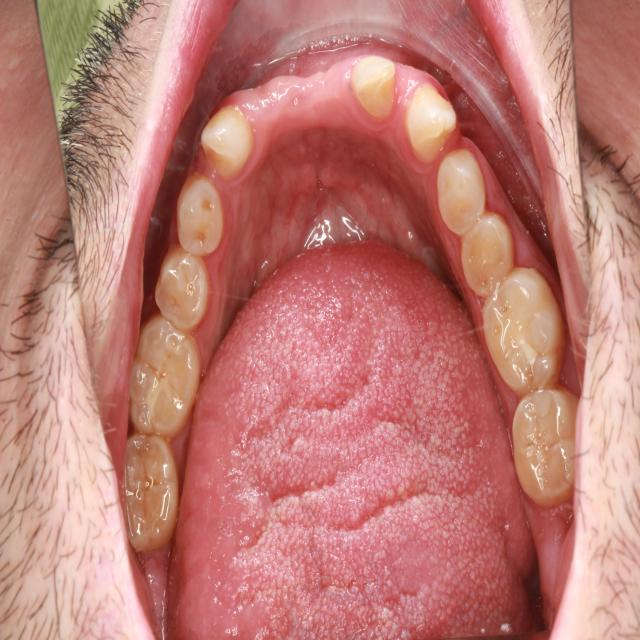tooth: (478, 262, 569, 397), (123, 305, 205, 441), (507, 381, 594, 509), (118, 424, 184, 557), (151, 238, 216, 336), (170, 167, 232, 260), (404, 68, 460, 169), (458, 206, 516, 301), (435, 141, 490, 240), (196, 104, 259, 184), (348, 47, 400, 125)
